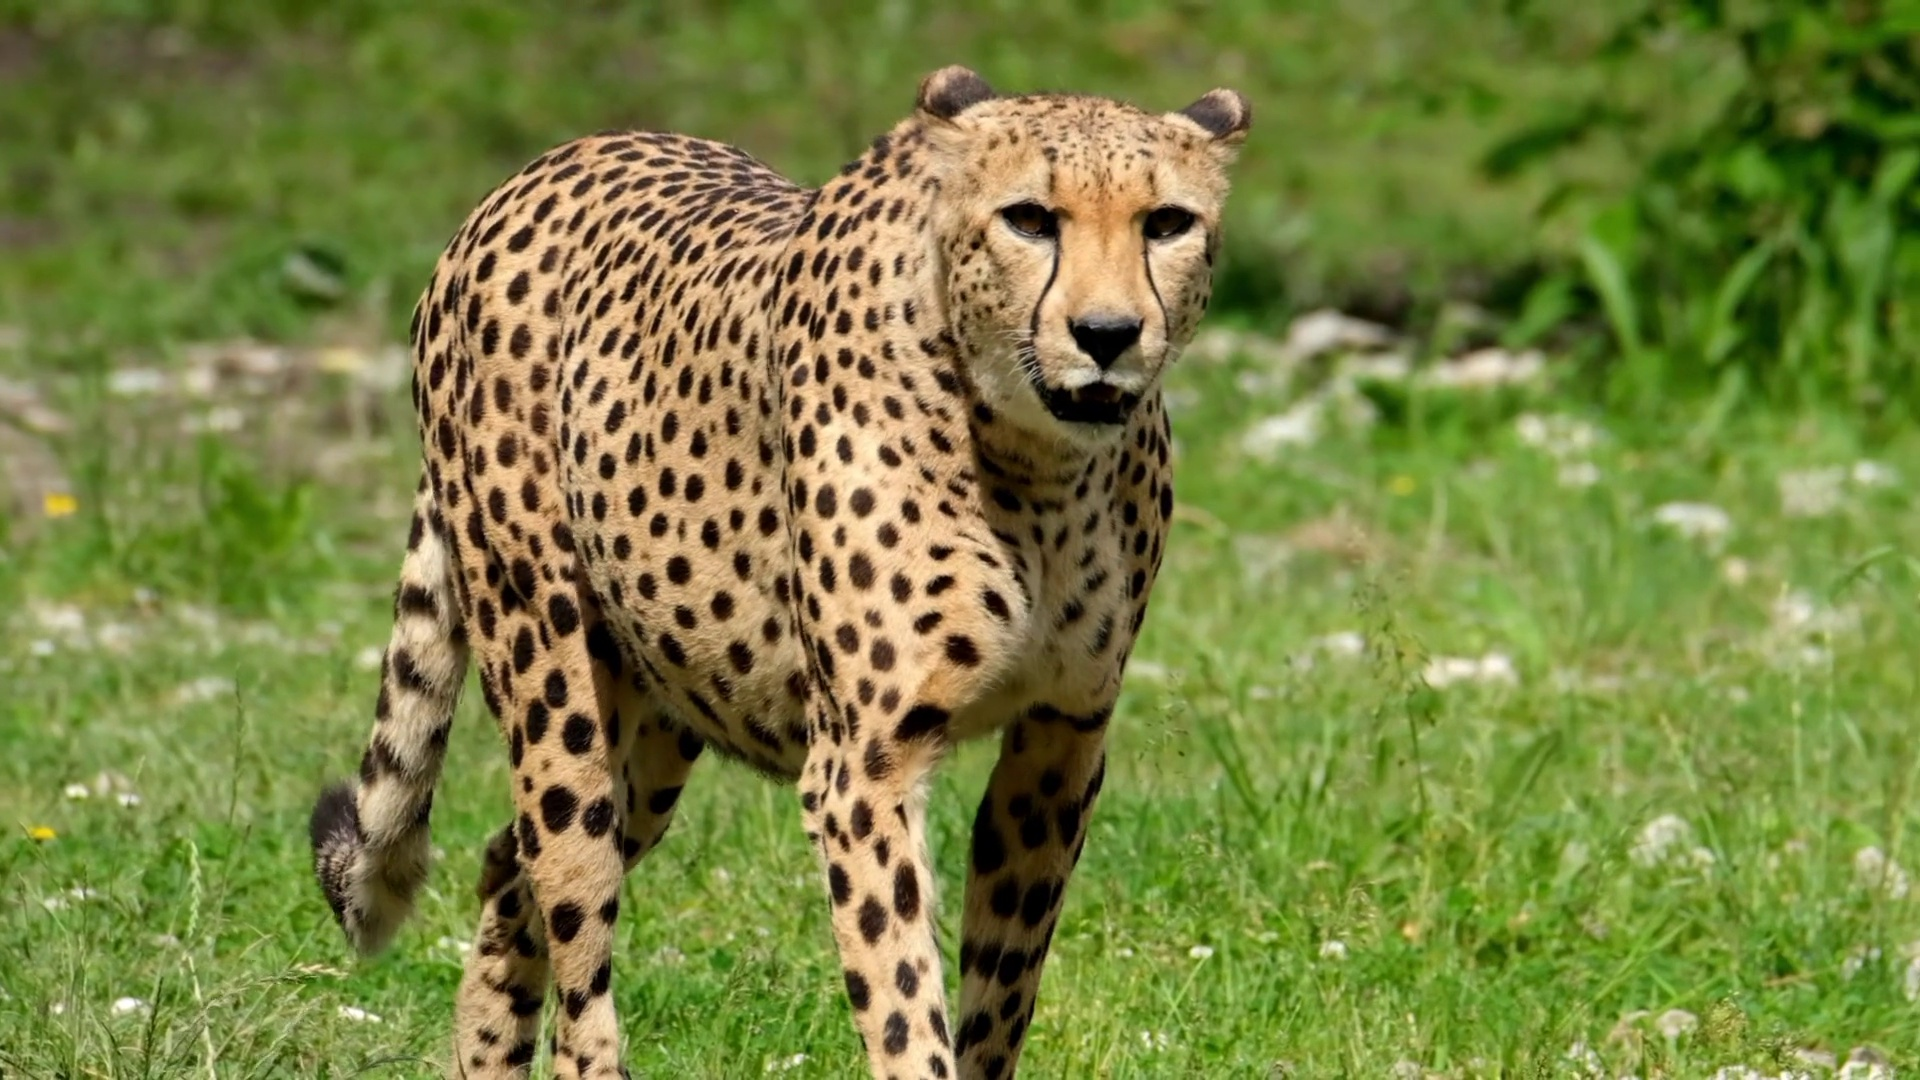Cheetah: (303, 62, 1257, 1080)
